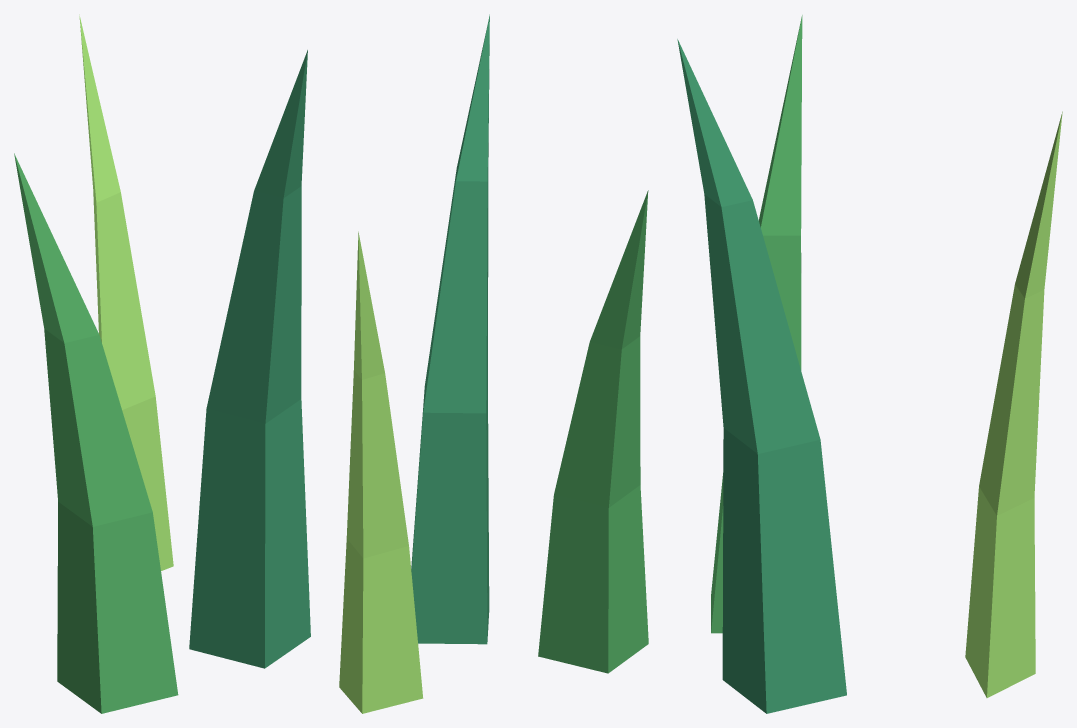
File: Grass_1.fbx
3 renders of one model, left to right at view 1: azimuth 30°, elevation 25°; view 2: azimuth 150°, elevation 25°; view 3: azimuth 270°, elevation 25°, orthographic. The views are drawn at different scales.
Visible parts, largest first — view 1: Grass_1; view 2: Grass_1; view 3: Grass_1.
Part boxes in pixels (box(x1,y1,x2,y2)): Grass_1: box(14, 14, 310, 713); Grass_1: box(339, 14, 648, 713); Grass_1: box(677, 15, 1062, 713).
Bounding box in the file's own units: 20.13 × 43.36 × 23.21.
